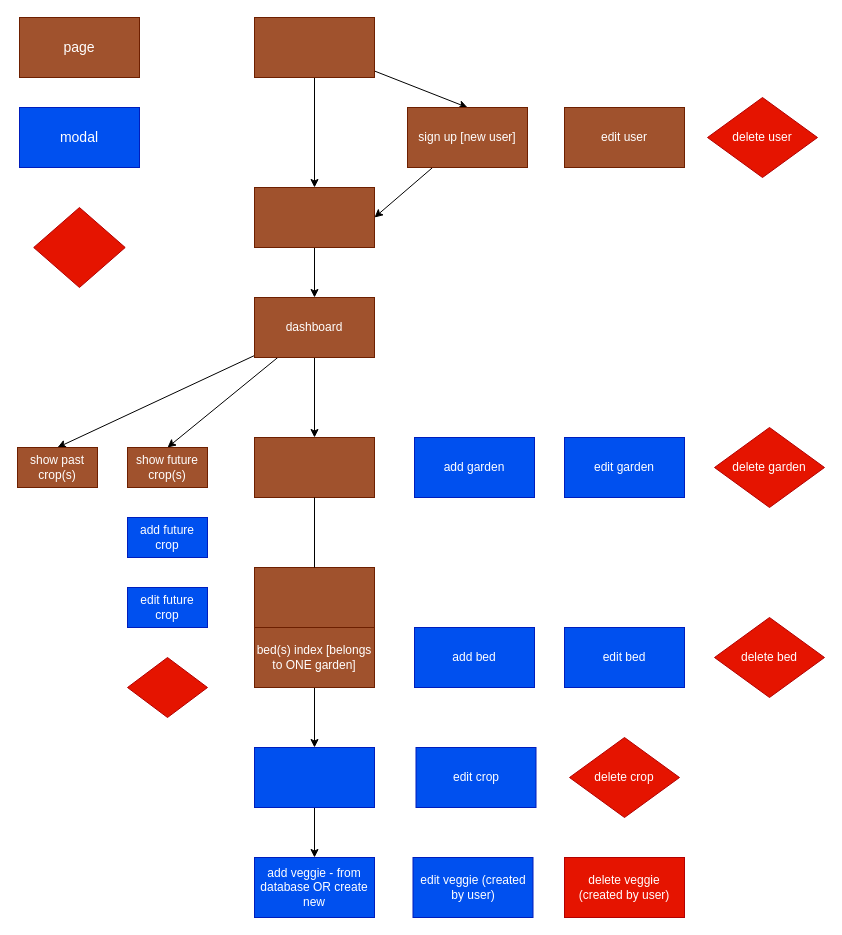
The diagram is 842 pixels wide and 935 high, and some of its shapes have lost their labels. The centre of each missing label's shape, as x and y in pixels:
add crop: pixel 314 777
button: pixel 79 247
delete future crop: pixel 167 687
garden(s) index: pixel 314 467
landing: pixel 314 47
login: pixel 314 217
show garden: pixel 314 597
